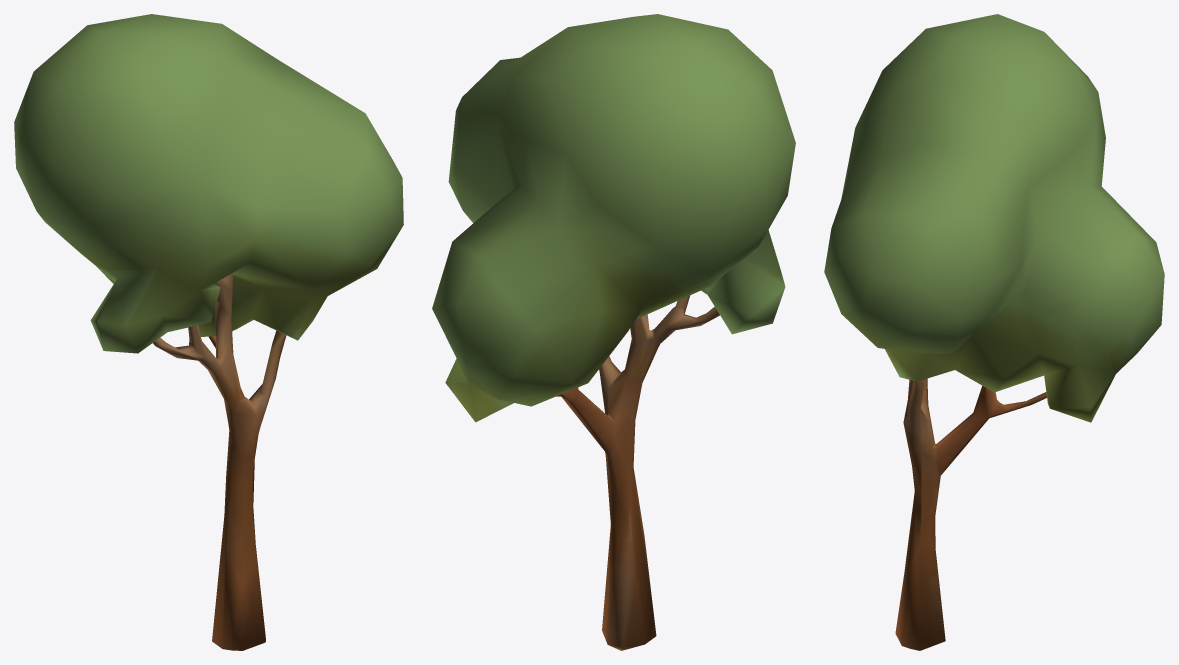
File: tree_berezka.fbx
The picture shows the model from 3 angles, left to right: view 1: azimuth 30°, elevation 25°; view 2: azimuth 150°, elevation 25°; view 3: azimuth 270°, elevation 25°; orthographic projection. The views are drawn at different scales.
Visible parts, largest first — view 1: tree_LOD0; view 2: tree_LOD0; view 3: tree_LOD0.
Boxes of the visible parts, left/top/right/bottom form: tree_LOD0: left=14, top=14, right=403, bottom=650; tree_LOD0: left=432, top=14, right=795, bottom=650; tree_LOD0: left=824, top=14, right=1164, bottom=650.
Size of what is drawn, in the model's own units: 7812 by 13935 by 7366.
